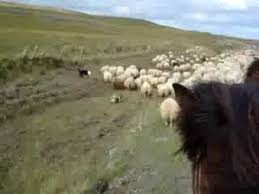sheep: (158, 93, 181, 126), (140, 78, 153, 99), (156, 82, 170, 97), (122, 73, 135, 89), (101, 68, 112, 84), (125, 63, 138, 76), (77, 68, 92, 79), (171, 70, 182, 79), (182, 71, 190, 77)
